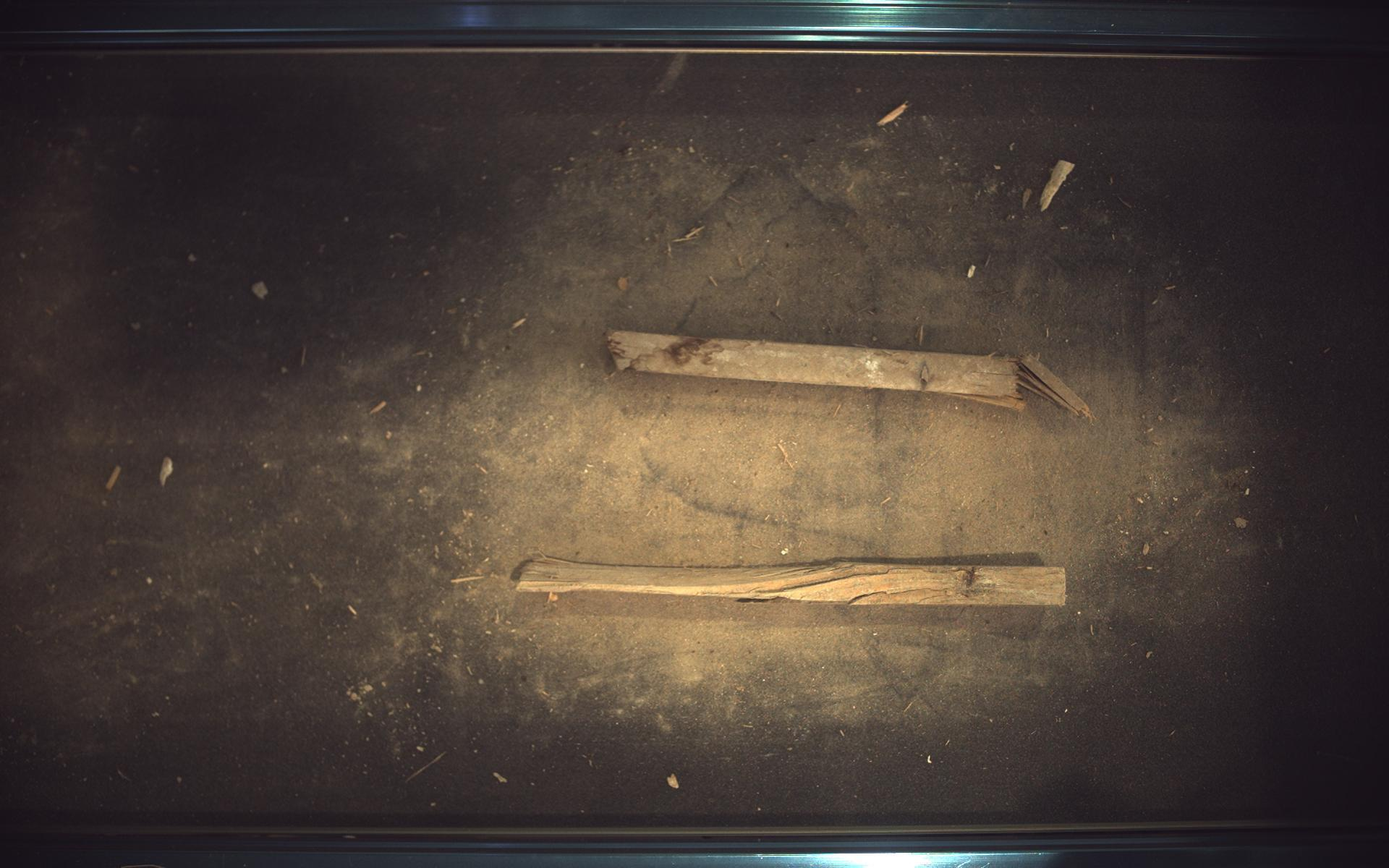wood: (608, 331, 1095, 419), (517, 558, 1069, 607)
